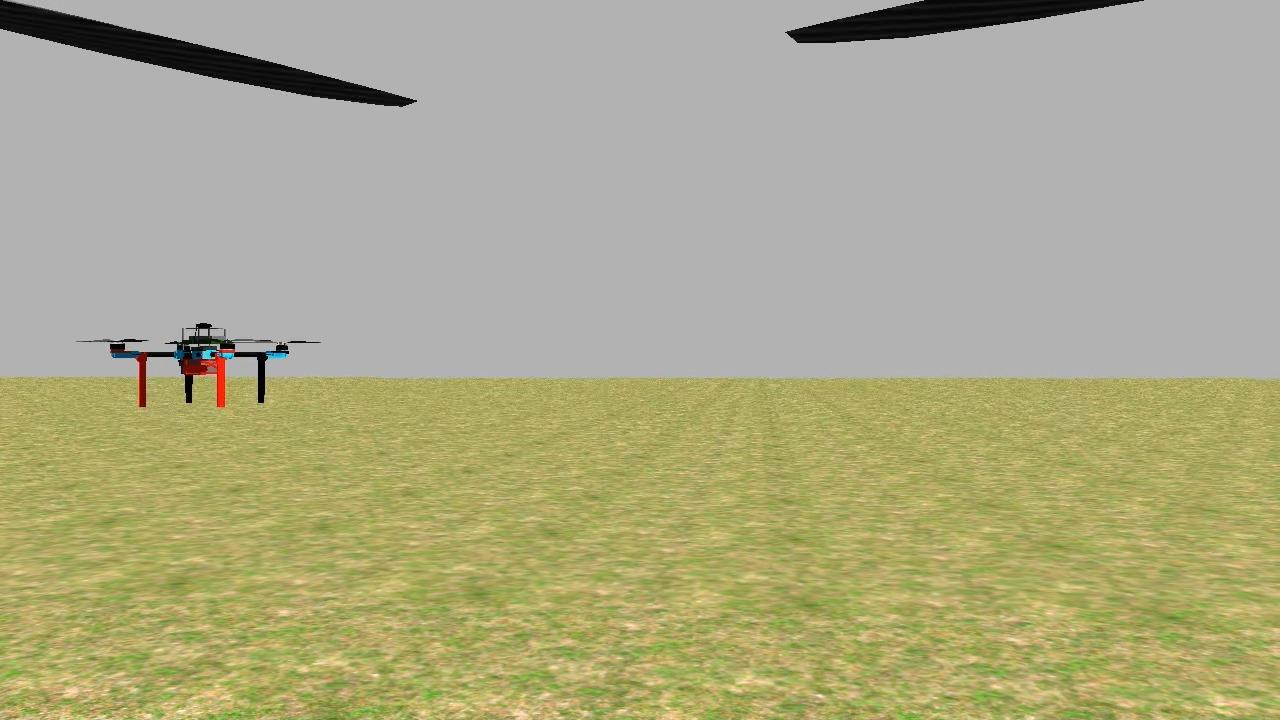UAV: (100, 306, 296, 435)
